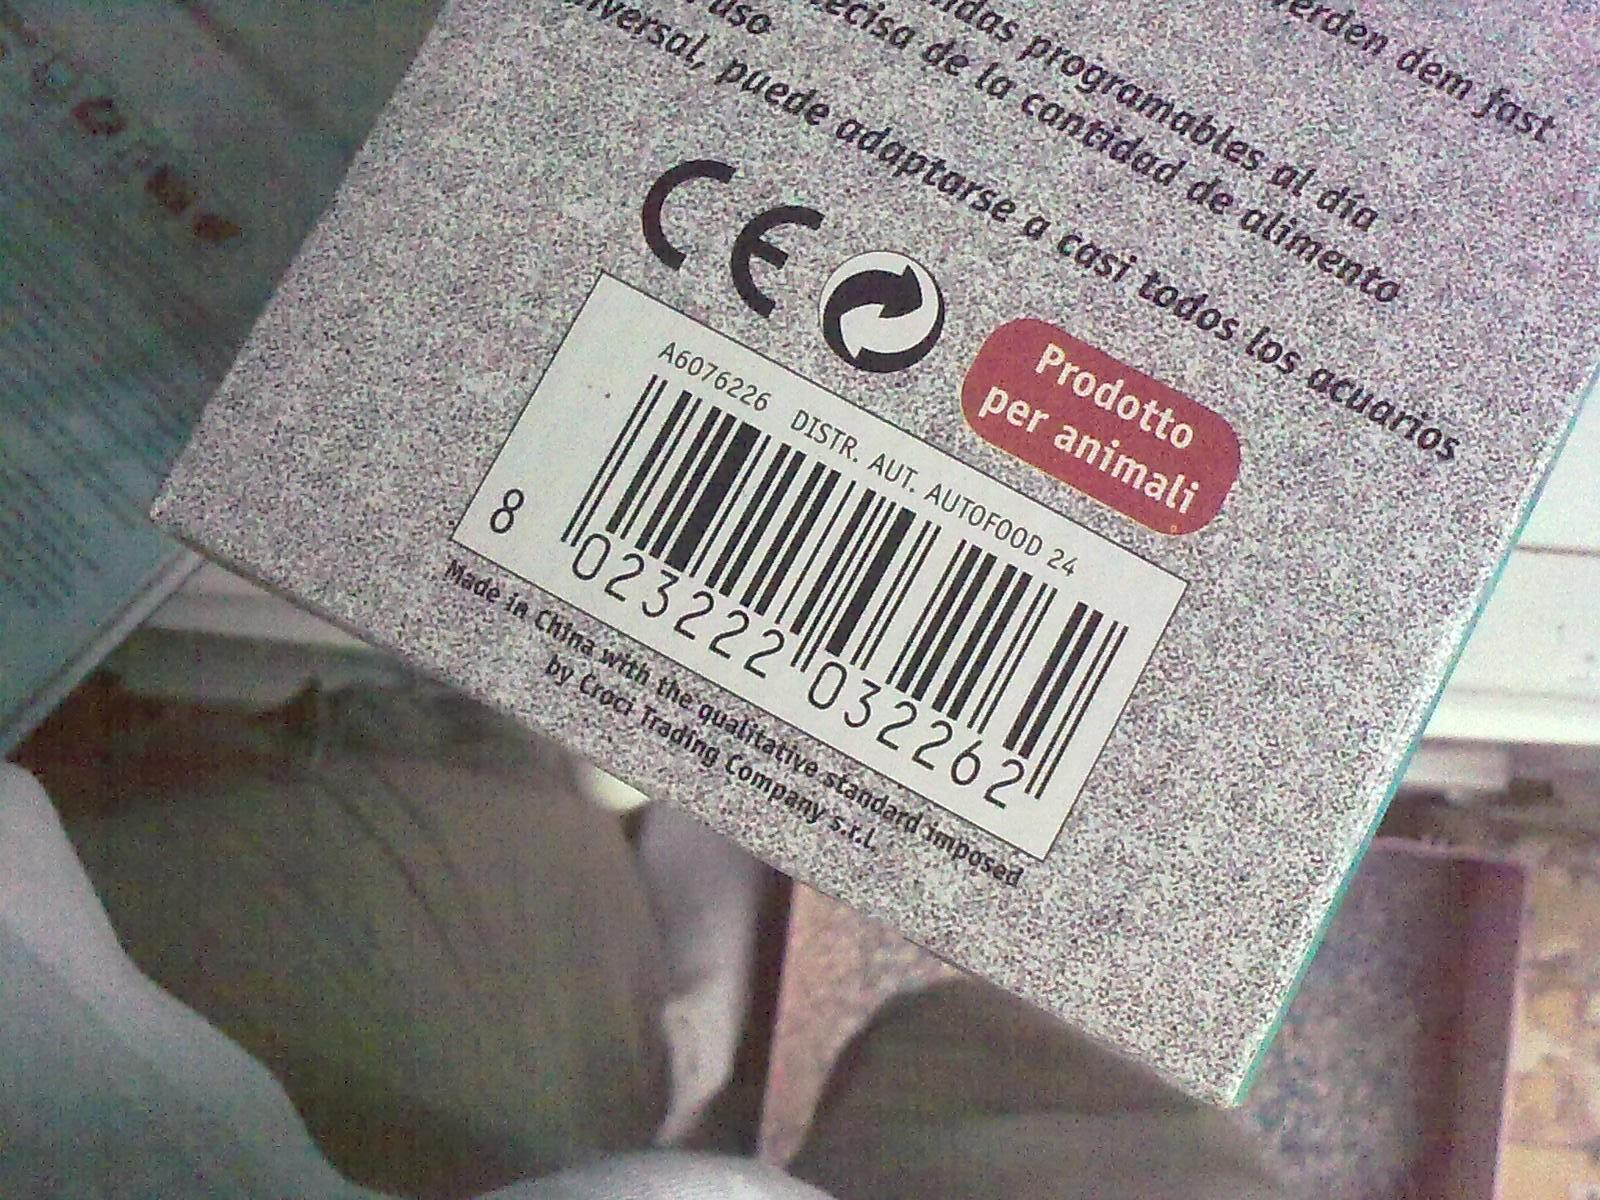Barcode: (477, 367, 1133, 846)
